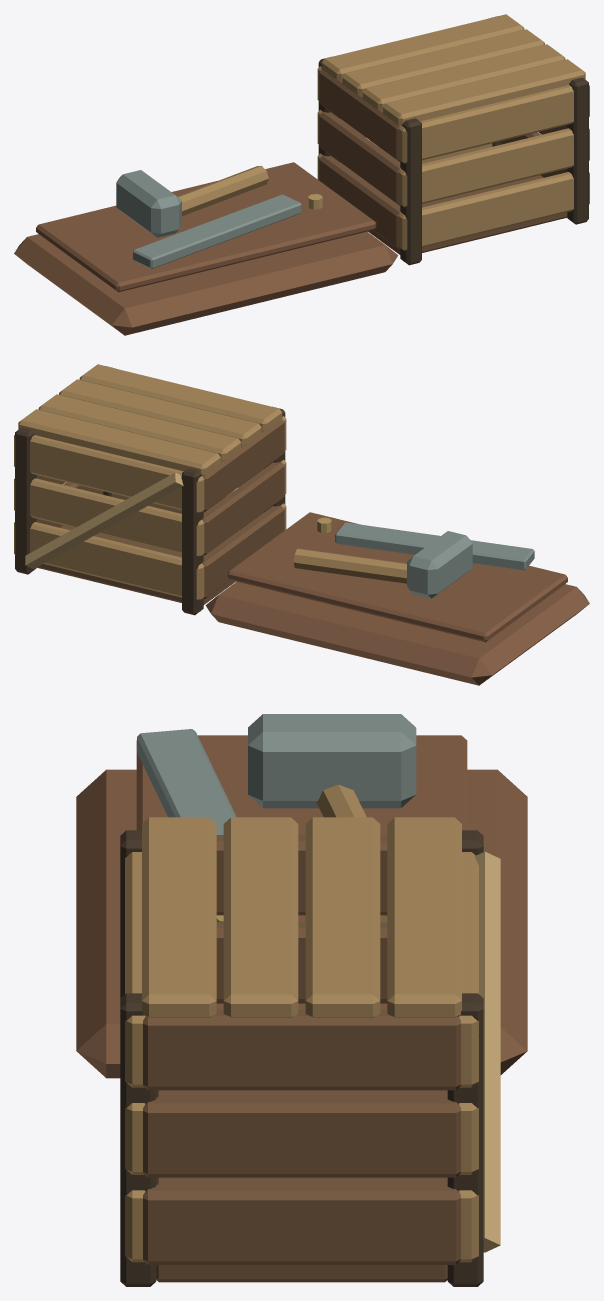
The model's file is Camp_Workbench_L0.fbx.
3 views of the same model, one above another, from view 1: azimuth 30°, elevation 25°; view 2: azimuth 150°, elevation 25°; view 3: azimuth 270°, elevation 25° (orthographic). The views are drawn at different scales.
Visible parts, largest first — view 1: Camp_Workbench_L0_Export; view 2: Camp_Workbench_L0_Export; view 3: Camp_Workbench_L0_Export.
Boxes of the visible parts, bbox=[...] form: Camp_Workbench_L0_Export: bbox=[14, 14, 589, 335]; Camp_Workbench_L0_Export: bbox=[14, 364, 589, 685]; Camp_Workbench_L0_Export: bbox=[76, 714, 527, 1286].
Bounding box in the file's own units: 1.87 × 0.54 × 0.75.
